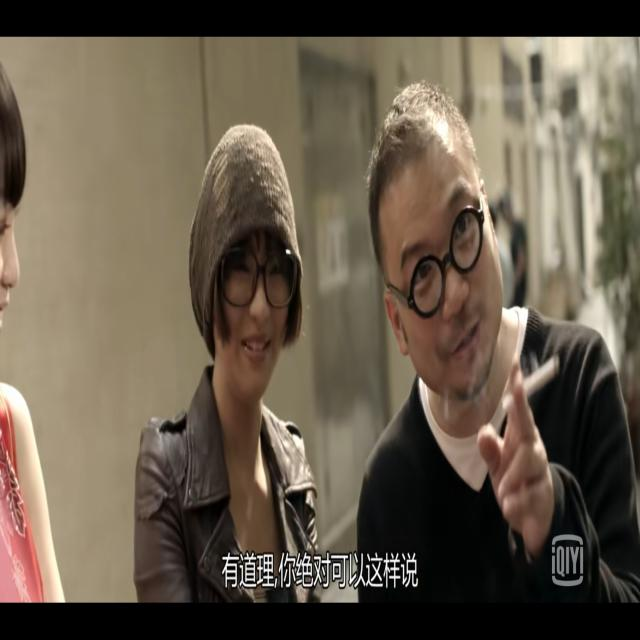smoke: (516, 344, 562, 405)
